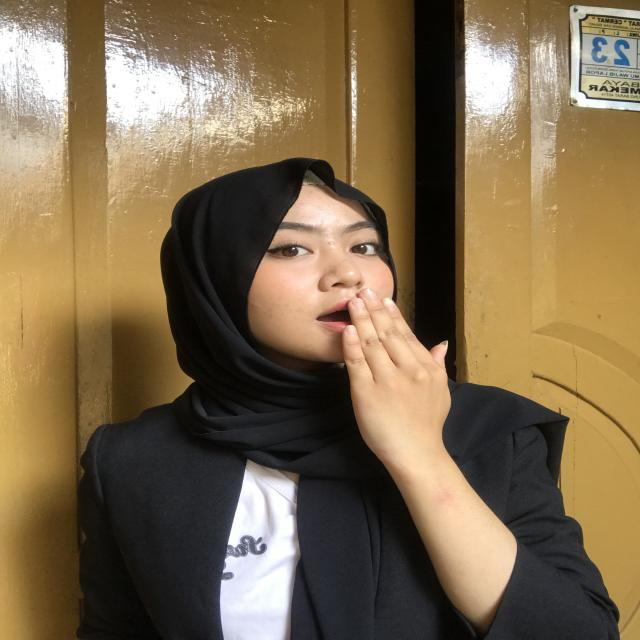ngantuk: (290, 288, 491, 506)
